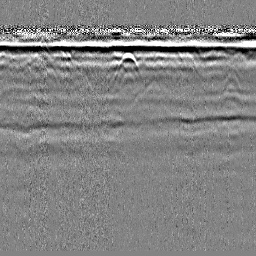cavity: (109, 51, 143, 85)
